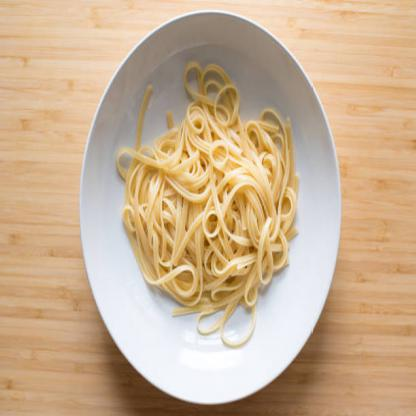Noodles: (115, 63, 302, 348)
